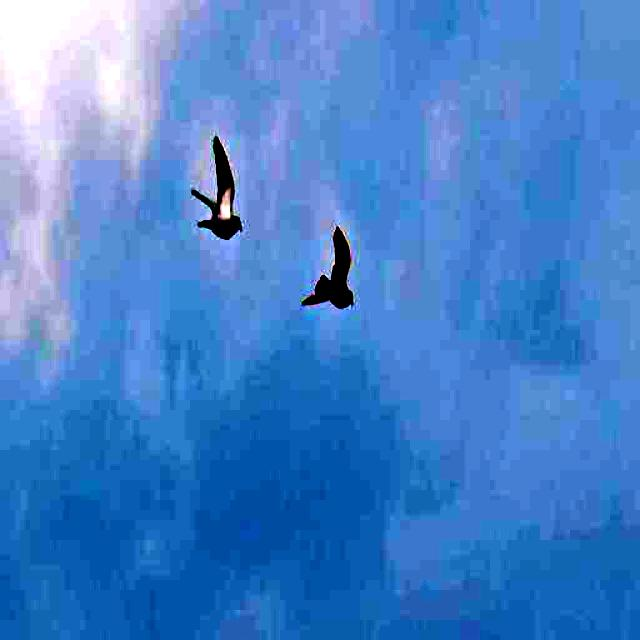airplane: (299, 210, 370, 336), (188, 129, 252, 262)
